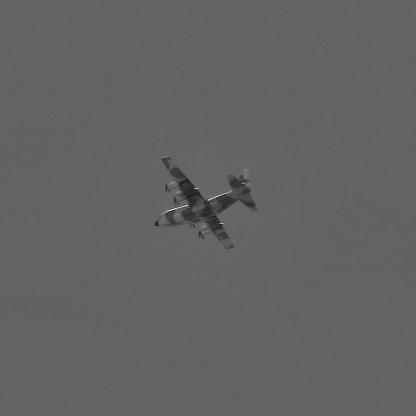C130: (155, 157, 260, 251)
